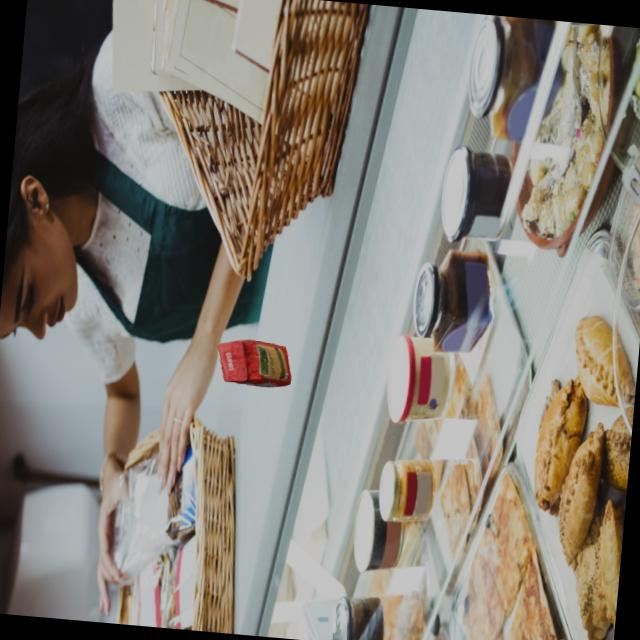mate bag: (209, 336, 295, 389)
